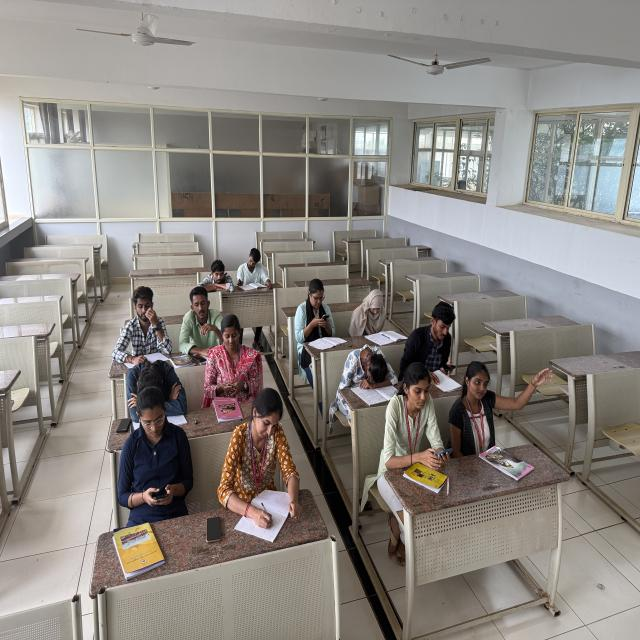Hand Rising: (445, 360, 565, 440), (445, 355, 556, 440)
Reading: (236, 249, 288, 296)
Sleeping: (115, 362, 207, 409), (342, 347, 398, 390)
Using Phone: (115, 399, 194, 503), (388, 372, 453, 462), (408, 298, 467, 372), (208, 329, 270, 398), (294, 278, 343, 338)
Writing: (217, 399, 316, 526)
